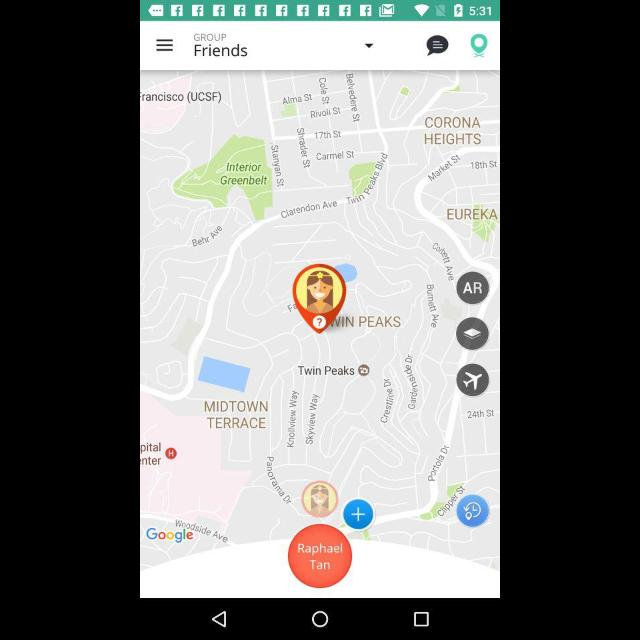icon: (456, 314, 490, 352), (456, 270, 490, 306), (456, 364, 488, 396), (426, 34, 449, 58), (470, 32, 488, 62), (310, 608, 330, 628), (211, 611, 227, 631), (154, 38, 173, 52), (413, 612, 429, 628), (365, 40, 373, 50)
map: (140, 70, 498, 598)
panel: (142, 598, 498, 638)
text: (194, 44, 248, 58), (195, 34, 228, 40)
toolbar: (141, 22, 499, 70)
uppertaskbar: (141, 1, 499, 20)
